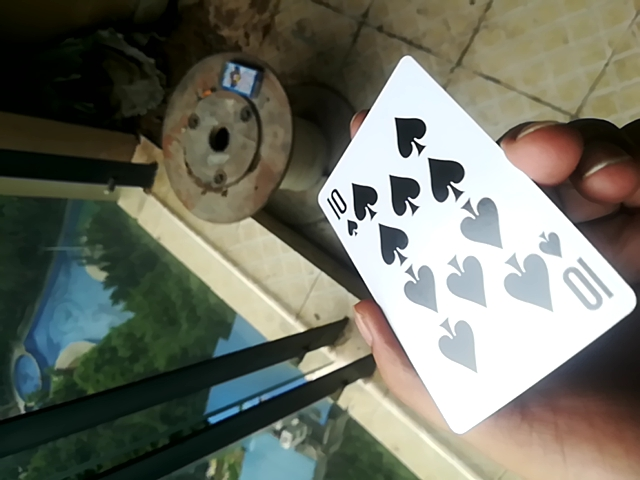ht 10: (308, 52, 635, 439)
